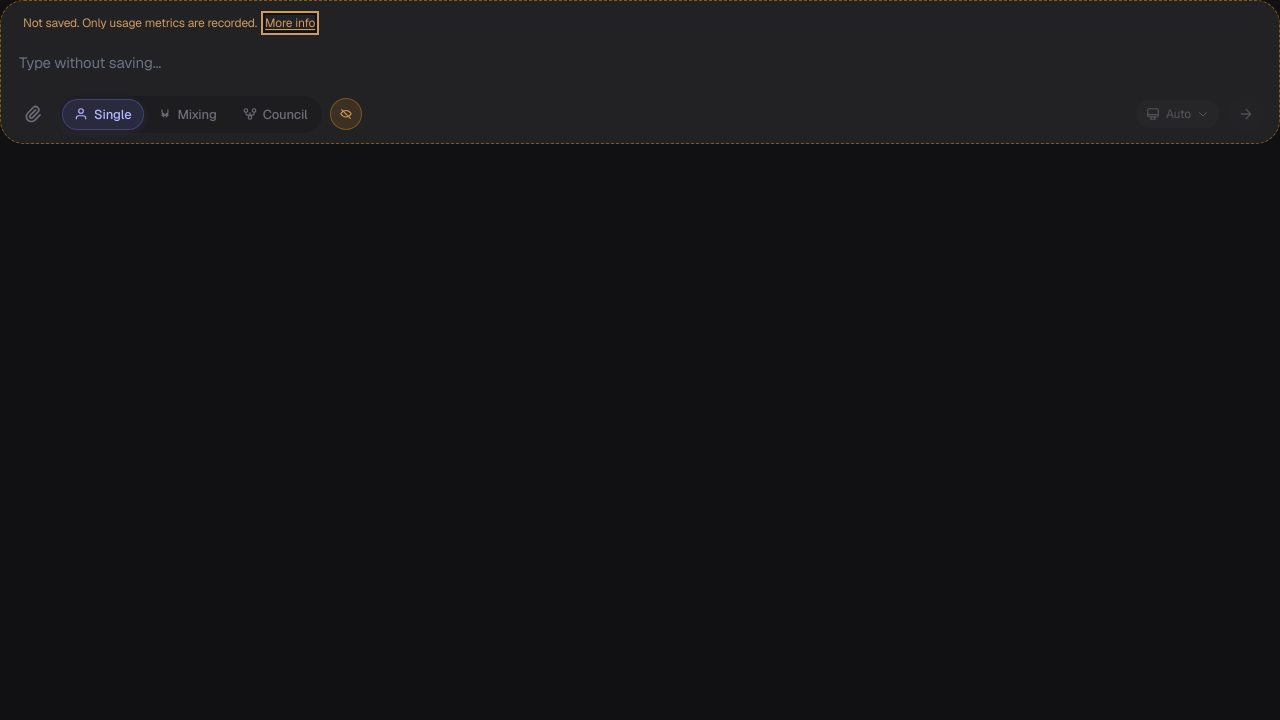
it: ChatInputBar — incognito mode › exposes a "More info" link that opens the explainer modal
Clicking opens the dialog
Click the button "More info" at [290, 23], box 265,15 -> 315,31
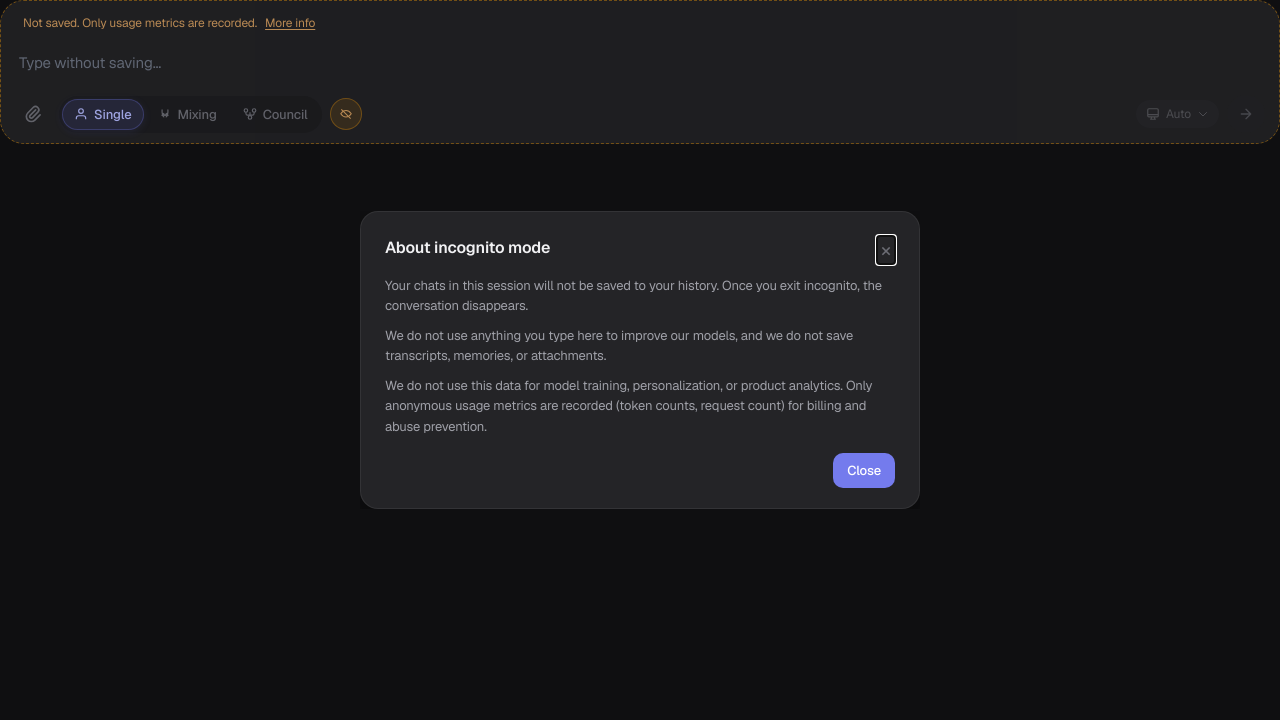
Now the heading "About incognito mode" is shown, box 385,236 -> 550,260
